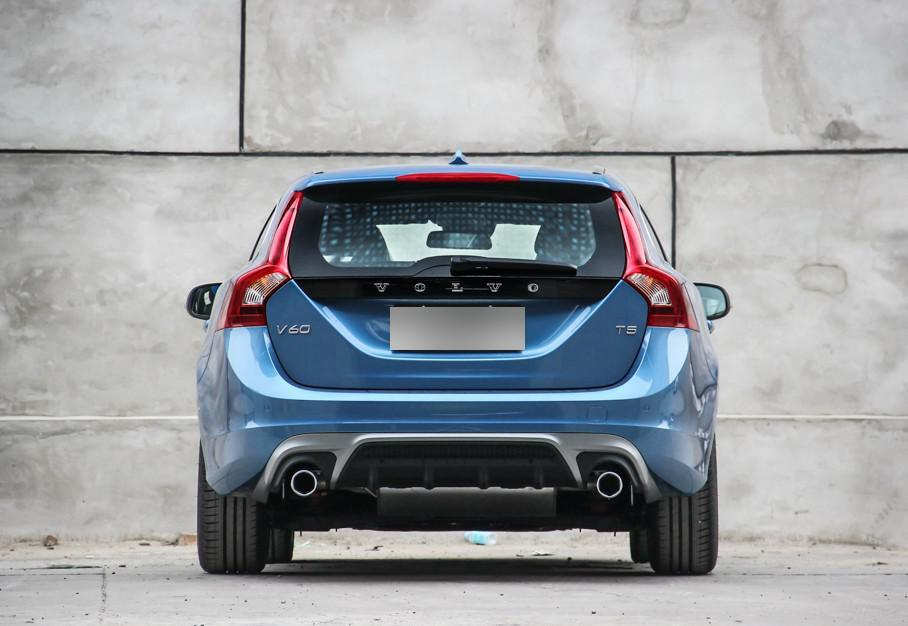Wagon: (187, 164, 731, 577)
